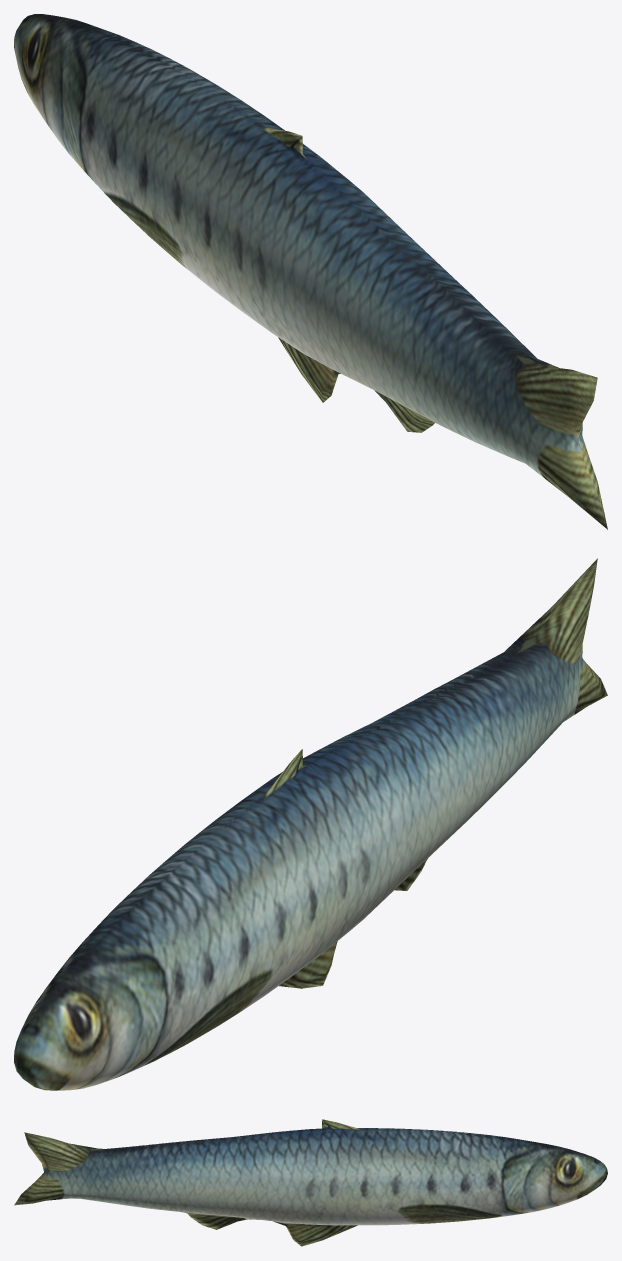
The model's file is sardine.fbx.
The picture shows the model from 3 angles, top to bottom: view 1: azimuth 30°, elevation 25°; view 2: azimuth 150°, elevation 25°; view 3: azimuth 270°, elevation 25°; orthographic projection. The views are drawn at different scales.
Visible parts, largest first — view 1: Sphere; view 2: Sphere; view 3: Sphere.
Part boxes in pixels (left/top/right/bottom): Sphere: left=14, top=14, right=607, bottom=529; Sphere: left=14, top=558, right=607, bottom=1090; Sphere: left=14, top=1119, right=607, bottom=1246.
Size of the model in its own units: 0.0146 by 0.0333 by 0.1406.
1 material, 1 textured.
